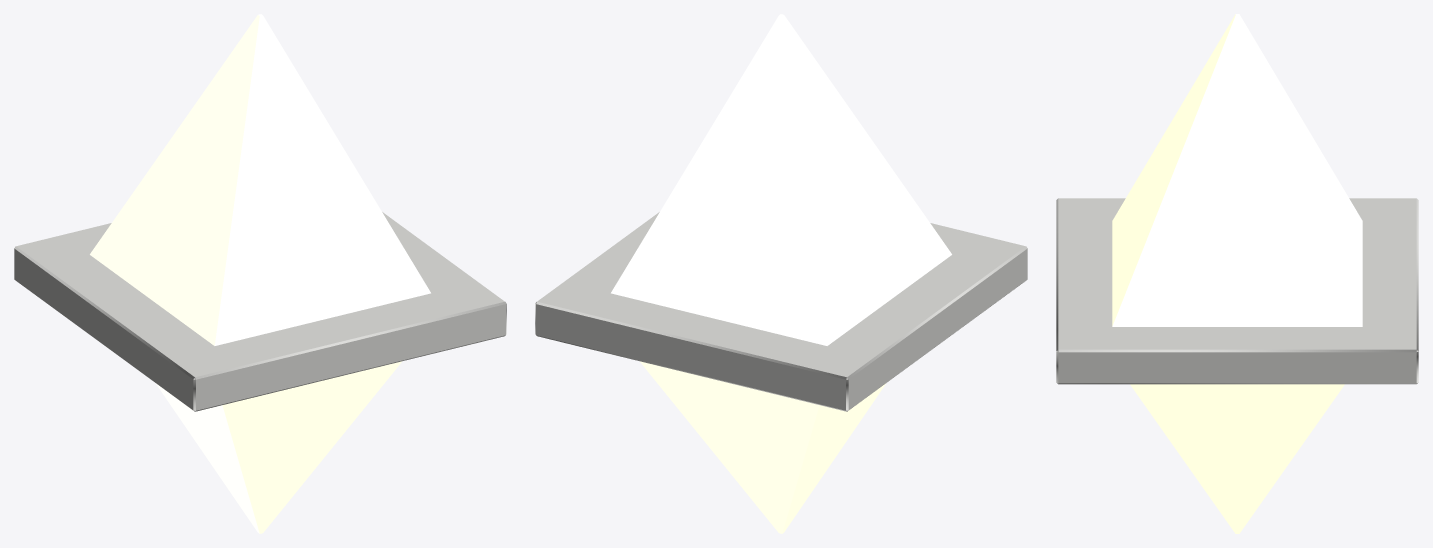
The model's file is SM_SB_Kit_Beacon.fbx.
3 renders of one model, left to right at view 1: azimuth 30°, elevation 25°; view 2: azimuth 150°, elevation 25°; view 3: azimuth 270°, elevation 25°, orthographic.
Visible parts, largest first — view 1: SM_SB_Kit_Beacon; view 2: SM_SB_Kit_Beacon; view 3: SM_SB_Kit_Beacon.
Part boxes in pixels (<box>): SM_SB_Kit_Beacon: <box>14,14,506,533</box>; SM_SB_Kit_Beacon: <box>535,14,1027,533</box>; SM_SB_Kit_Beacon: <box>1056,14,1418,533</box>.
Bounding box in the file's own units: 190 × 190 × 300.
